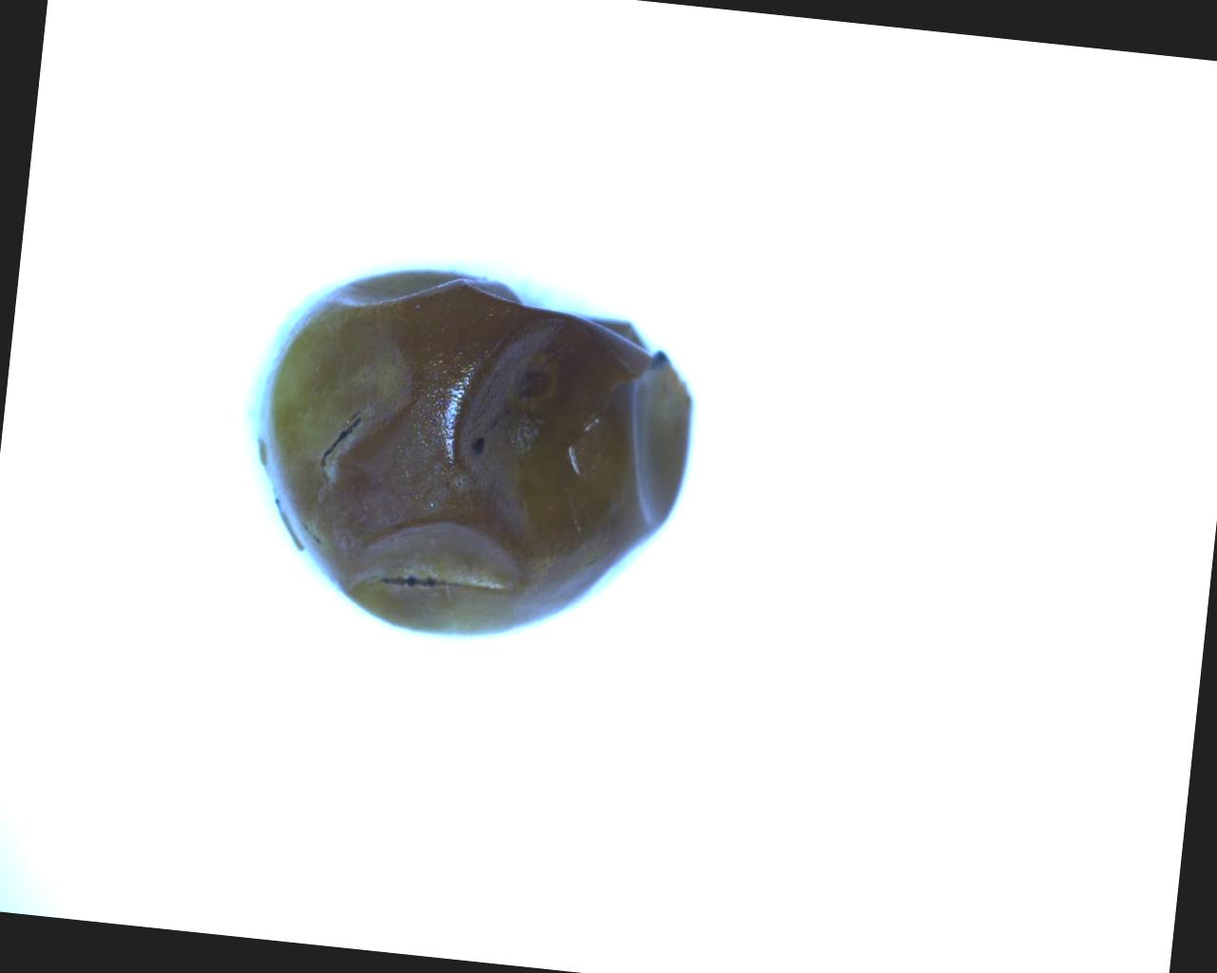Grape Rotten: (232, 248, 708, 660)
